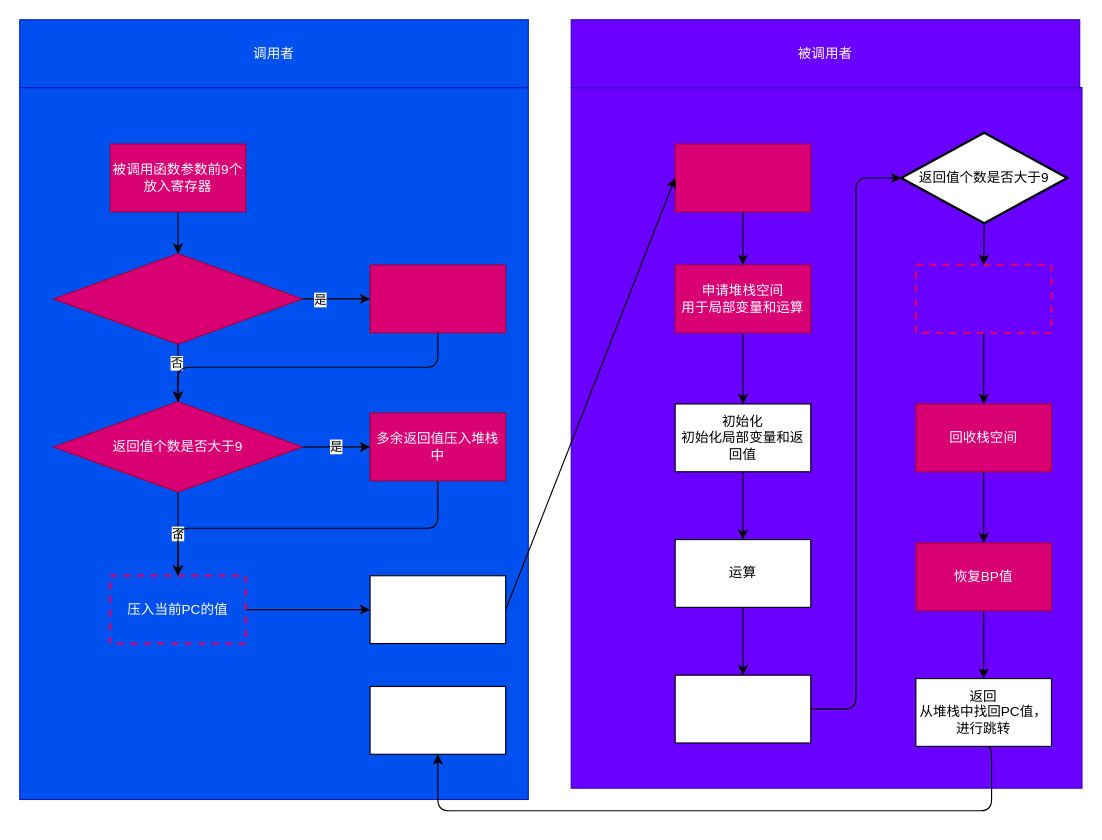
This 1102x840 diagram has some shape labels left out. The box of each missing label's shape, as (x1, y1, x2, y2) in pixels:
CALL 调用函数: (369, 575, 506, 644)
压入BP值到栈: (674, 143, 811, 212)
多余参数压入堆栈中: (369, 264, 506, 333)
大于9个的返回值使用调用者的栈空间: (914, 263, 1052, 333)
将返回值前9个拷贝到寄存器: (674, 674, 811, 743)
获取返回值: (369, 685, 506, 754)
被调用函数参数个数是否大于9: (53, 253, 302, 344)
